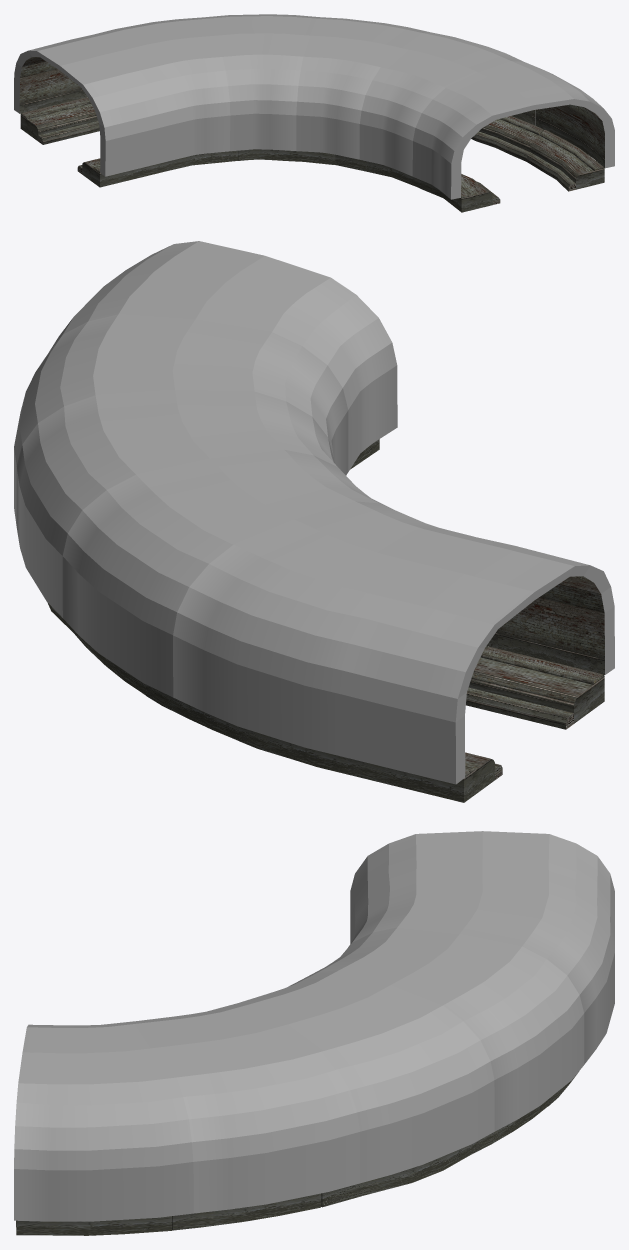
File: NewProperCurve.fbx
3 views of the same model, one above another, from view 1: azimuth 30°, elevation 25°; view 2: azimuth 150°, elevation 25°; view 3: azimuth 270°, elevation 25° (orthographic). The views are drawn at different scales.
Visible parts, largest first — view 1: polySurface162; view 2: polySurface162; view 3: polySurface162.
Part boxes in pixels (x1,y1,x2,y2): polySurface162: [14, 14, 614, 212]; polySurface162: [14, 241, 614, 802]; polySurface162: [14, 831, 614, 1235].
Size of the model in its own units: 27.63 by 6.27 by 25.16.
3 materials, 1 textured.
